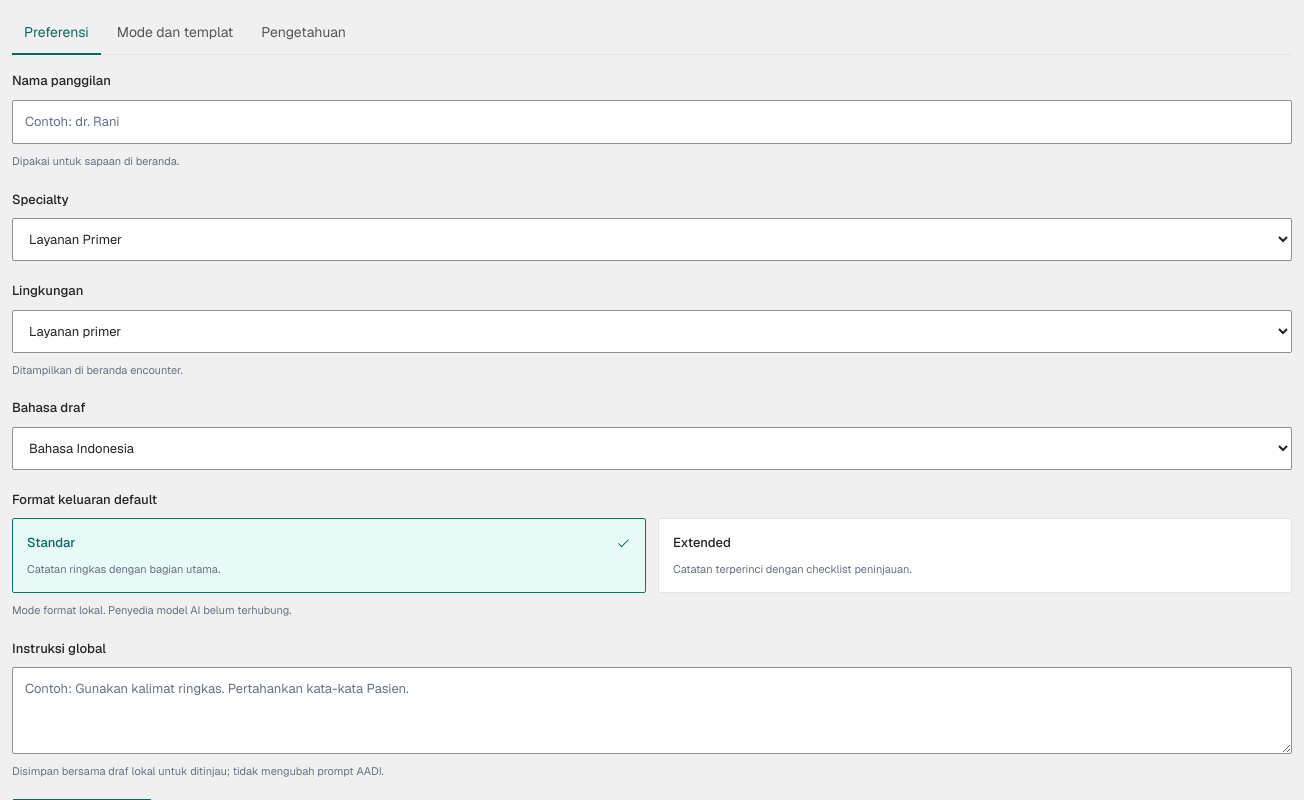
it: AgentSettings › Pengetahuan lists the installed index, or says the database is not installed
Later steps or results of the test are not shown.
Click the tab "Pengetahuan".
click(304, 34)  # box [249,12,358,55]
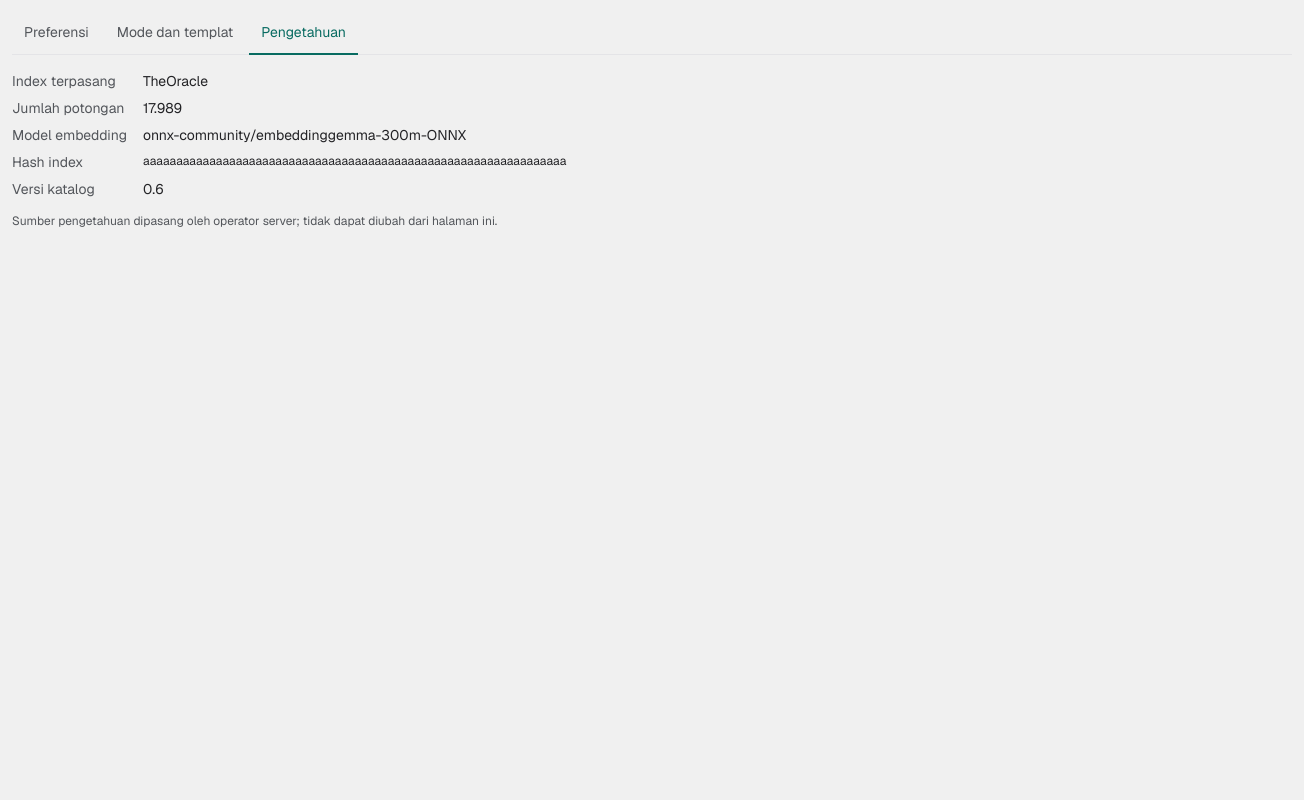
Expected: the text "17.989" is shown, [143,99,182,117]
Expected: the text "onnx-community/embeddinggemma-300m-ONNX" is shown, [143,126,466,144]
Expected: the text "0.6" is shown, [143,180,164,198]
